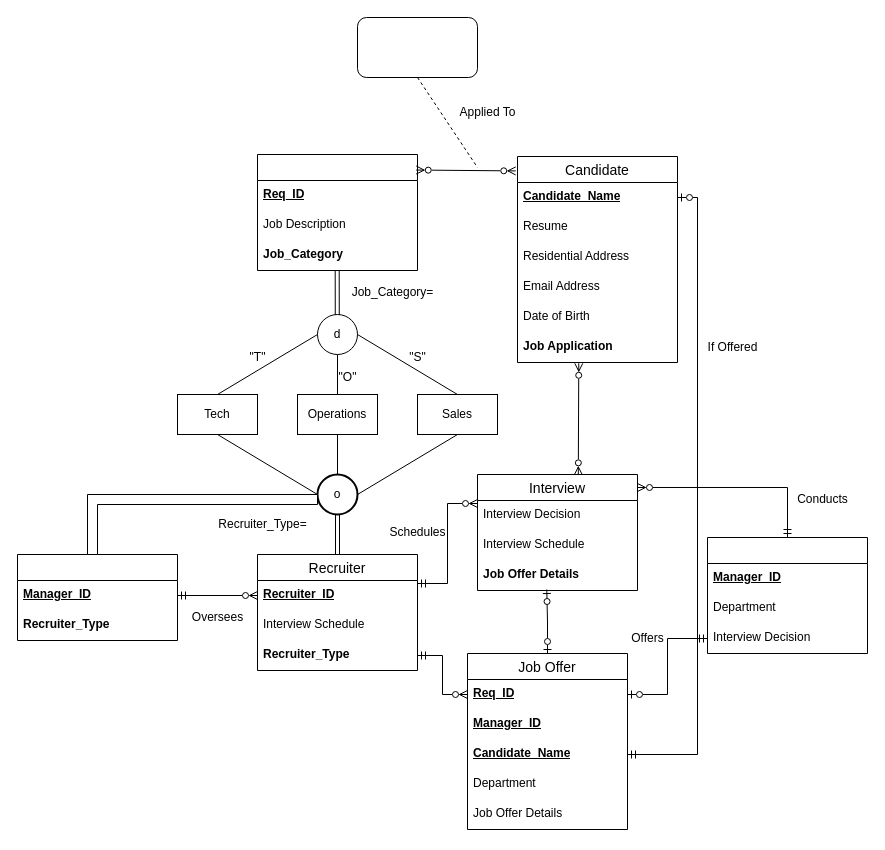
This 885x850 diagram has some shape labels left out. Each missing label, with the box of its shape:
Hiring Manager: (706, 536, 868, 654)
Job Opening: (256, 154, 418, 270)
Recruiting Manager: (16, 554, 178, 640)
Req_ID Amount of Jobs: (356, 16, 478, 78)
